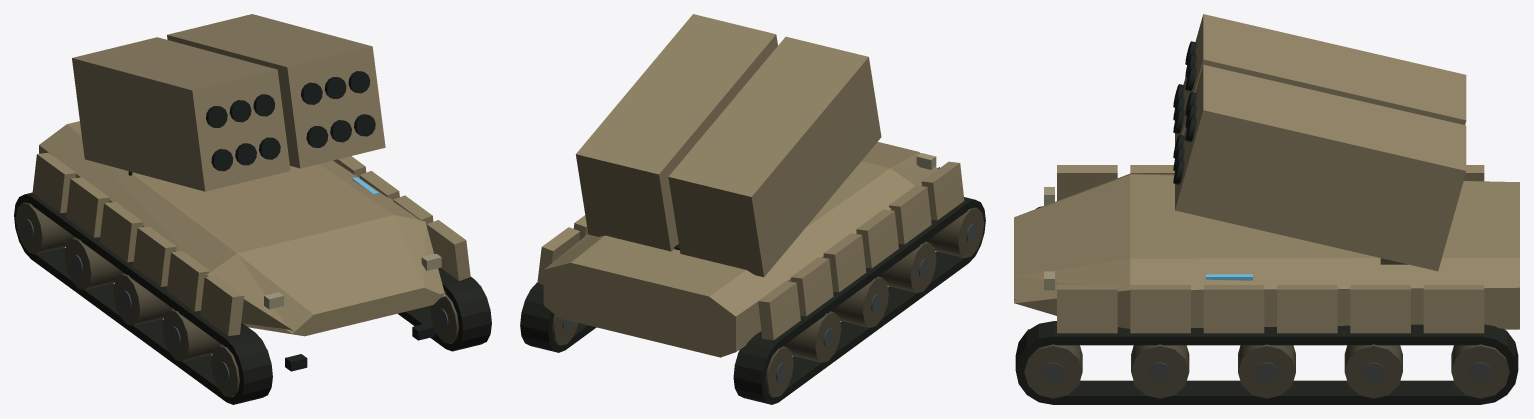
Rendered from mlrs-lod.glb.
The picture shows the model from 3 angles, left to right: view 1: azimuth 30°, elevation 25°; view 2: azimuth 150°, elevation 25°; view 3: azimuth 270°, elevation 25°; orthographic projection. The views are drawn at different scales.
Visible parts, largest first — view 1: equipment (×2); view 2: equipment (×2); view 3: equipment (×2).
Part boxes in pixels (<box>): equipment (×2): <box>14,14,491,404</box>; equipment (×2): <box>520,14,985,404</box>; equipment (×2): <box>1014,14,1519,404</box>.
Size of the model in its own units: 3.44 by 3.26 by 5.4.
